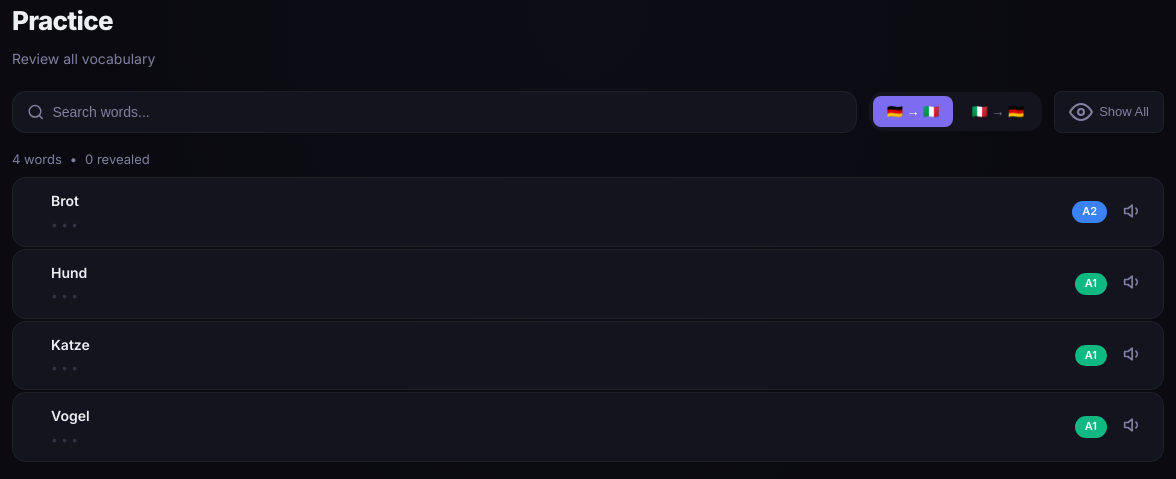
it: PracticePage › shows all translations when Show All clicked
The image size is (1176, 479).
Click the button "Show All": coordinates (1109, 112) [1054,91,1164,133]
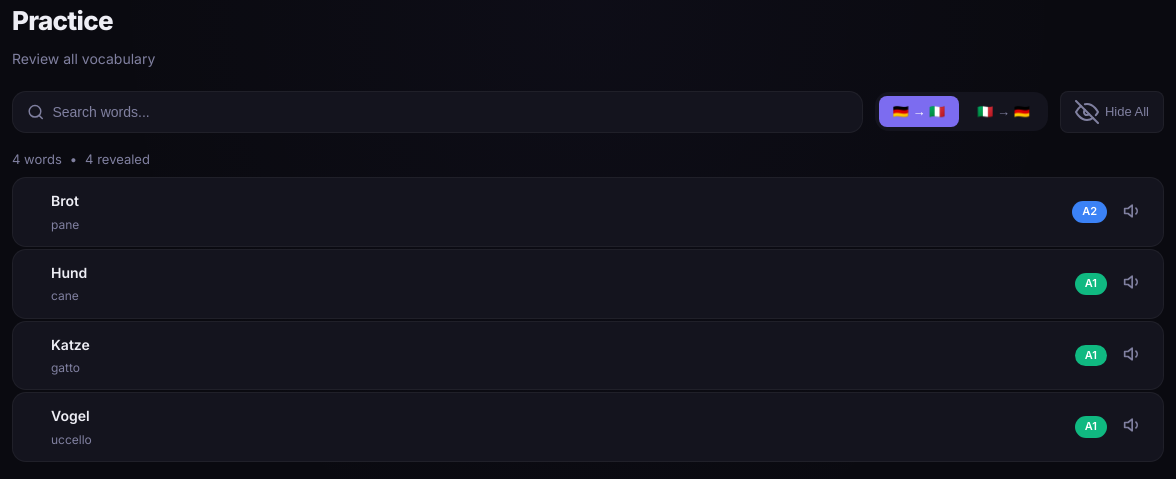
Now the text "cane" is shown, box [51,288,79,303]
Now the text "gatto" is shown, box [51,360,80,375]
Now the text "pane" is shown, box [51,217,79,232]
